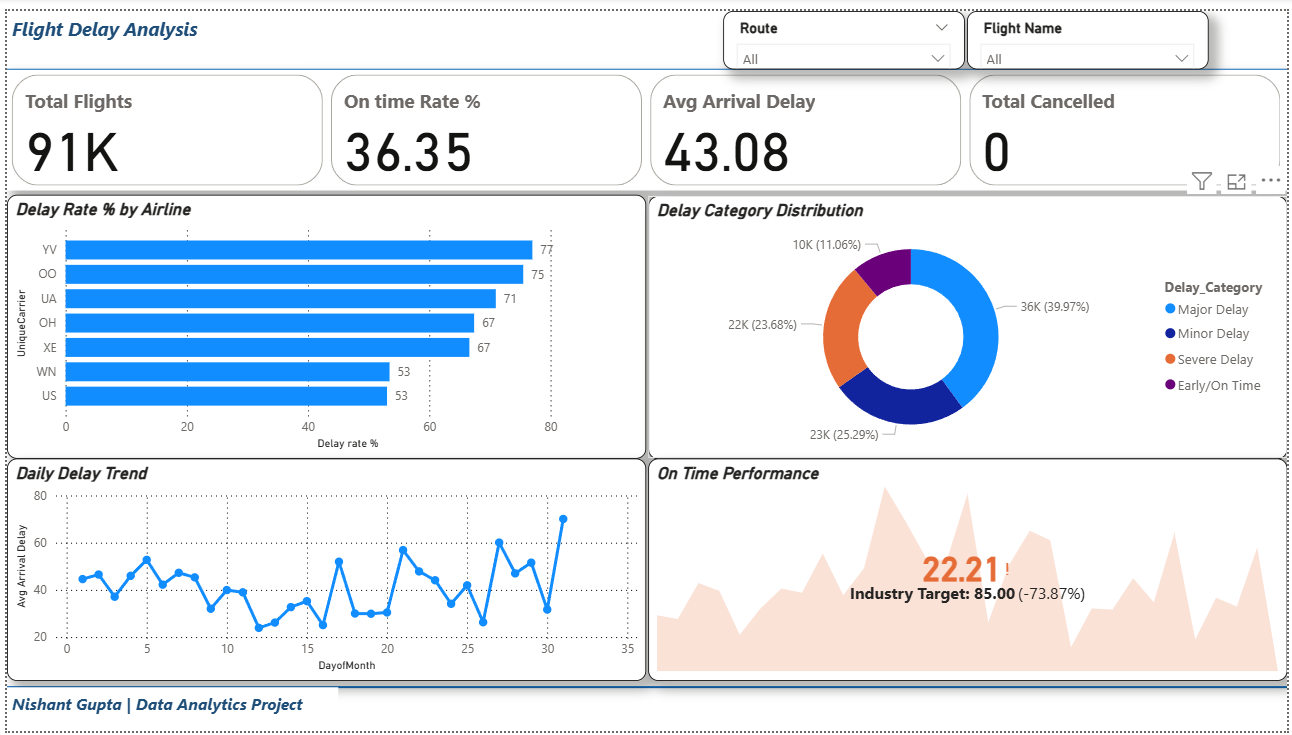

Layout of this report page (visuals, bound fields, positions):
{"tool":"powerbi","page":{"name":"Executive Overview","canvas":[1280,720],"ordinal":0},"visuals":[{"type":"shape","box":[0,52.5,1280,12.5],"z":0},{"type":"shape","box":[0,670.1,1280.3,12.2],"z":1000},{"type":"cardVisual","fields":{"Data":["KPI.Total Flights","KPI.On time Rate %","KPI.Avg Arrival Delay","KPI.Total Cancelled"]},"box":[0,58.7,1280.3,121.1],"z":2000},{"type":"barChart","title":"Delay Rate % by Airline","fields":{"Y":["KPI.Delay rate %"],"Category":["airline_clean.UniqueCarrier"]},"box":[0,183.4,639.5,264.1],"z":3000},{"type":"donutChart","title":"Delay Category Distribution","fields":{"Y":["KPI.Total Flights"],"Category":["airline_clean.Delay_Category"]},"box":[640.8,184.6,639.5,262.9],"z":4000},{"type":"lineChart","title":" Daily Delay Trend","fields":{"Category":["airline_clean.DayofMonth"],"Y":["KPI.Avg Arrival Delay"]},"box":[0,447.6,639.5,222.6],"z":5000},{"type":"kpi","title":"On Time Performance","fields":{"Indicator":["KPI.On time Rate %"],"Goal":["KPI.Target"],"TrendLine":["airline_clean.DayofMonth"]},"box":[641,448,639,222],"z":6000},{"type":"slicer","fields":{"Values":["airline_clean.Route"]},"box":[716.2,0,241.2,58.8],"z":7000},{"type":"slicer","fields":{"Values":["airline_clean.UniqueCarrier"]},"box":[960,0,241.2,58.8],"z":8000},{"type":"textbox","box":[0,0,300,52.5],"z":9000},{"type":"textbox","box":[0,676.2,331.2,43.8],"z":9001}]}

Visuals, with their boxes in screenshot pixels (x1, y1, x2, y2), scaled from the page's 1280x720 canvas onto the 1292x735 screenshot:
shape: locate(0, 54, 1291, 66)
shape: locate(0, 684, 1291, 697)
cardVisual - KPI.Total Flights x KPI.On time Rate %: locate(0, 60, 1291, 184)
"Delay Rate % by Airline" barChart: locate(0, 187, 645, 457)
"Delay Category Distribution" donutChart: locate(647, 188, 1291, 457)
" Daily Delay Trend" lineChart: locate(0, 457, 645, 684)
"On Time Performance" kpi: locate(647, 457, 1291, 684)
slicer - airline_clean.Route: locate(723, 0, 966, 60)
slicer - airline_clean.UniqueCarrier: locate(969, 0, 1212, 60)
textbox: locate(0, 0, 303, 54)
textbox: locate(0, 690, 334, 734)
